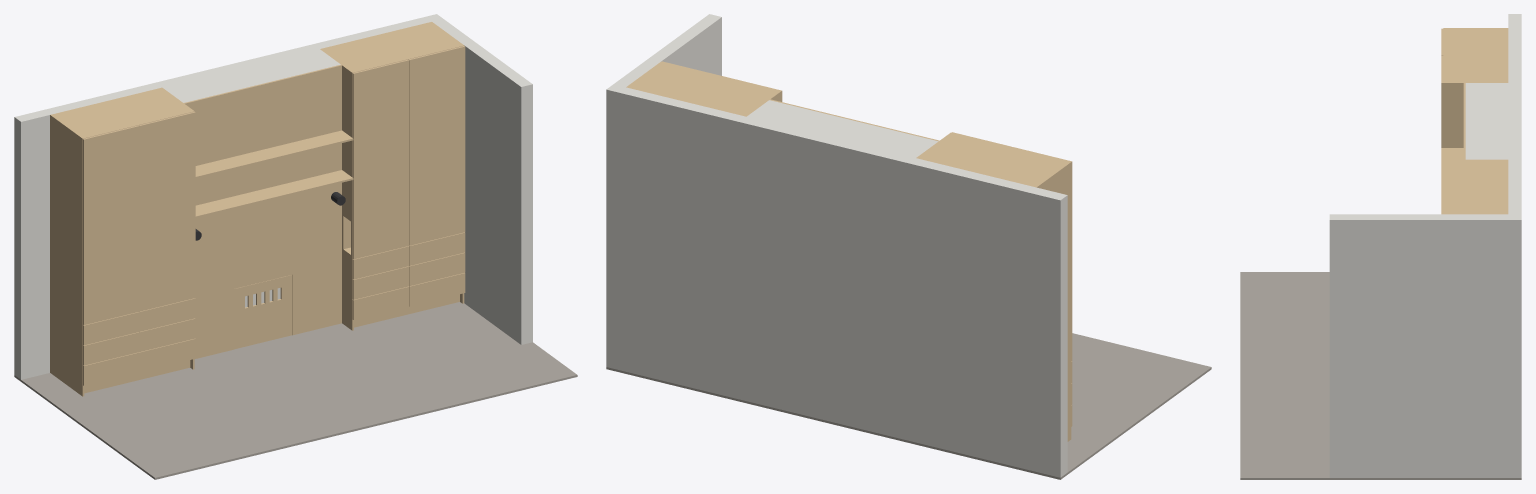
File: a-p8vhnj.glb
The picture shows the model from 3 angles, left to right: view 1: azimuth 30°, elevation 25°; view 2: azimuth 150°, elevation 25°; view 3: azimuth 270°, elevation 25°; orthographic projection. The views are drawn at different scales.
Parts seen in each view (by area): view 1: Room: floor, Chimney breast: Facing panel, Room: side wall, Room: back wall, Right wardrobe: Door 1 (hinged left), Left wardrobe: Door 2 (hinged right), Left wardrobe: Door 1 (hinged left), Right wardrobe: Door 2 (hinged right), Left wardrobe: Side, left, Room: chimney breast, Right wardrobe: Top, Left wardrobe: Top (+18 smaller); view 2: Room: back wall, Room: floor, Room: side wall, Right wardrobe: Top, Left wardrobe: Top, Room: chimney breast, Left wardrobe: Side, left; view 3: Room: side wall, Room: floor, Right wardrobe: Top, Left wardrobe: Top, Room: chimney breast, Room: back wall, Left wardrobe: Side, right (with the niche).
Boxes of the visible parts, x1,y1,x2,y2 form: Room: floor: (14,302,577,479); Chimney breast: Facing panel: (184,64,341,358); Room: side wall: (425,14,532,344); Room: back wall: (14,17,431,379); Right wardrobe: Door 1 (hinged left): (352,59,409,259); Left wardrobe: Door 2 (hinged right): (139,111,195,311); Left wardrobe: Door 1 (hinged left): (83,125,139,324); Right wardrobe: Door 2 (hinged right): (408,46,465,245); Left wardrobe: Side, left: (50,114,84,396); Room: chimney breast: (162,49,340,307); Right wardrobe: Top: (322,22,462,72); Left wardrobe: Top: (52,88,192,138); Room: back wall: (618,87,1067,477); Room: floor: (606,333,1211,479); Room: side wall: (606,14,721,369); Right wardrobe: Top: (628,62,778,116); Left wardrobe: Top: (918,133,1069,186); Room: chimney breast: (747,100,938,157); Left wardrobe: Side, left: (1035,161,1071,441); Room: side wall: (1329,214,1521,477); Room: floor: (1240,272,1521,479); Right wardrobe: Top: (1443,160,1508,213); Left wardrobe: Top: (1443,29,1508,81); Room: chimney breast: (1465,83,1508,159); Room: back wall: (1508,14,1521,214); Left wardrobe: Side, right (with the niche): (1443,82,1508,147).
Bounding box in the file's own units: 4.37 × 2.57 × 2.52.
